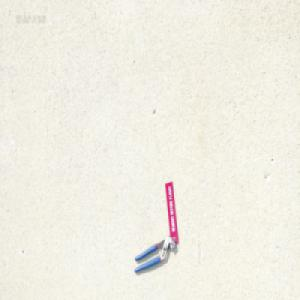Label: (165, 179, 178, 242)
Pliers: (133, 235, 176, 273)
